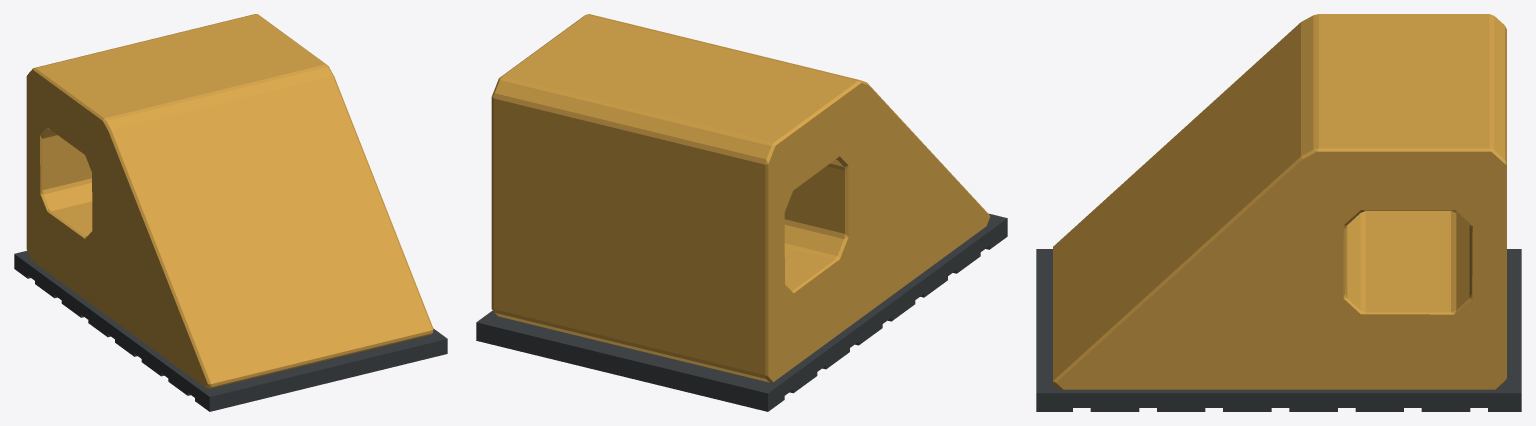
The picture shows the model from 3 angles, left to right: view 1: azimuth 30°, elevation 25°; view 2: azimuth 150°, elevation 25°; view 3: azimuth 270°, elevation 25°; orthographic projection. The views are drawn at different scales.
Parts seen in each view (by area): view 1: Chock_Wedge_ThroughGrip, Chock_Continuous_ChannelledSole; view 2: Chock_Wedge_ThroughGrip, Chock_Continuous_ChannelledSole; view 3: Chock_Wedge_ThroughGrip, Chock_Continuous_ChannelledSole.
Part boxes in pixels (bbox=[...]): Chock_Wedge_ThroughGrip: bbox=[26, 14, 433, 388]; Chock_Continuous_ChannelledSole: bbox=[14, 251, 447, 411]; Chock_Wedge_ThroughGrip: bbox=[491, 14, 990, 382]; Chock_Continuous_ChannelledSole: bbox=[476, 213, 1007, 411]; Chock_Wedge_ThroughGrip: bbox=[1053, 14, 1506, 389]; Chock_Continuous_ChannelledSole: bbox=[1036, 249, 1521, 411].
Size of the model in its own units: 0.232 by 0.194 by 0.33.
